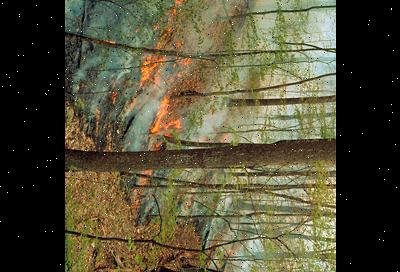fire: (108, 0, 196, 140)
